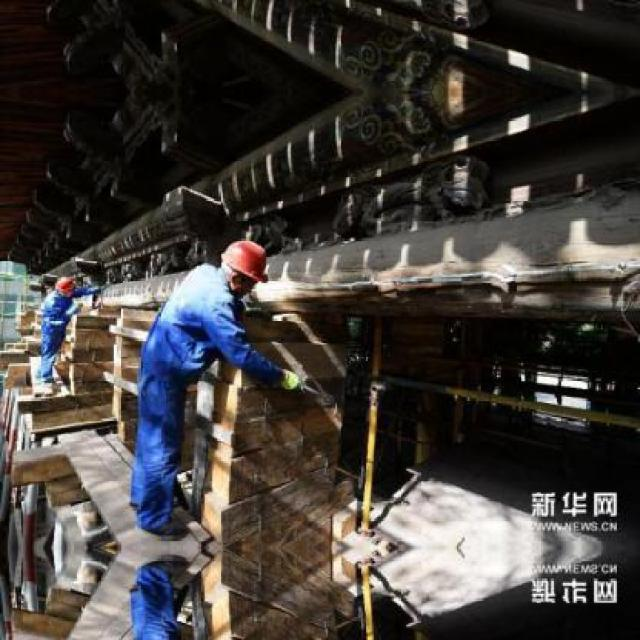helmet: (218, 234, 272, 294), (51, 272, 75, 297)
